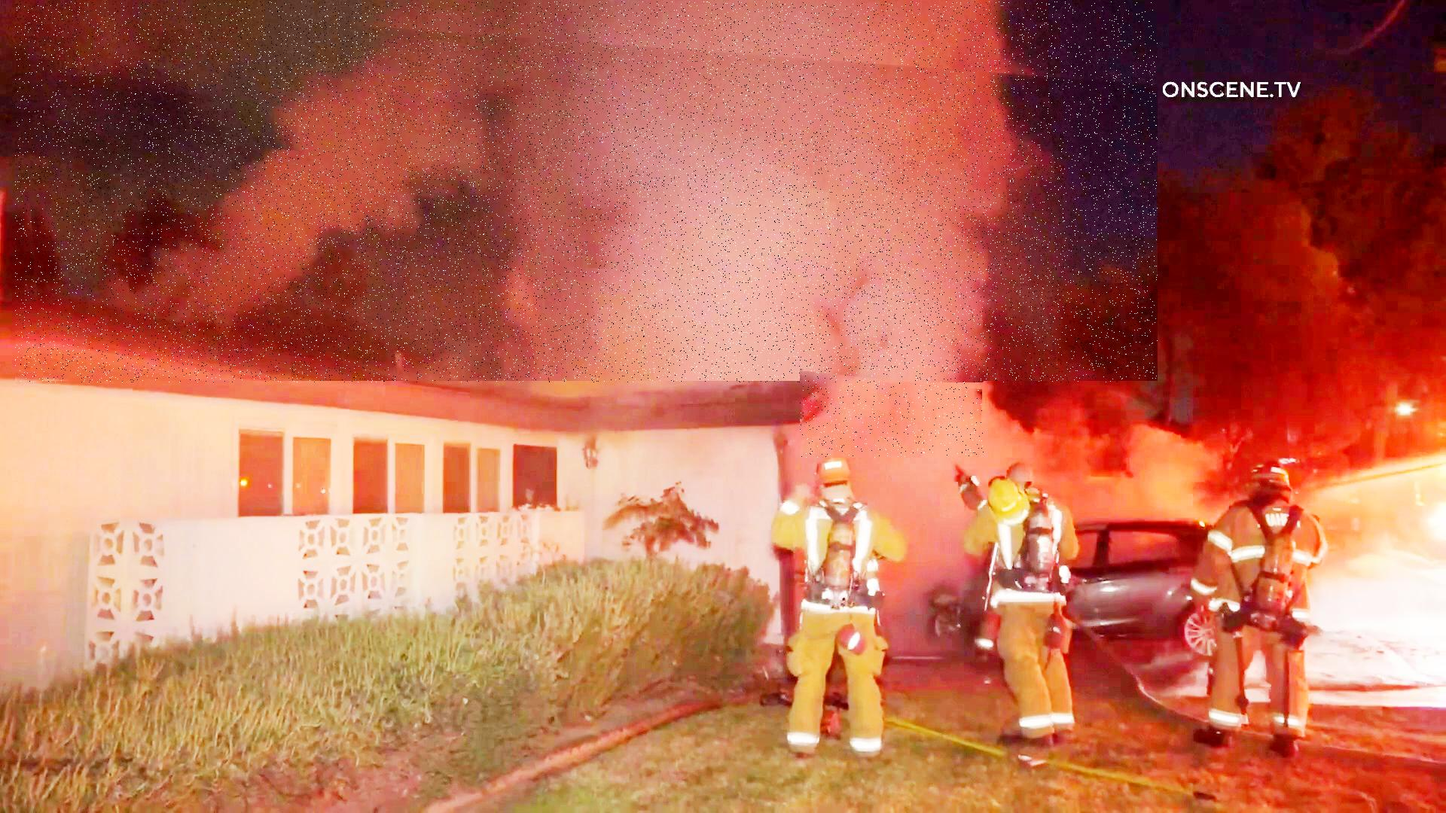smoke: (15, 2, 1158, 383), (801, 371, 984, 458)
